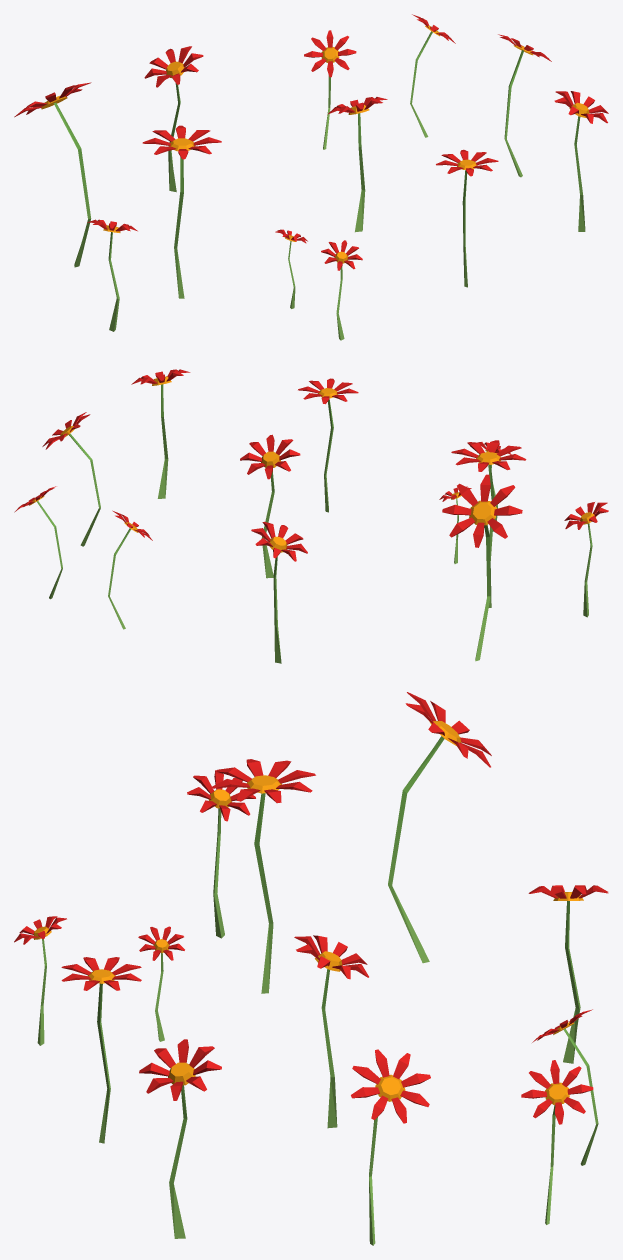
Rendered from flower_red.glb.
3 renders of one model, top to bottom at view 1: azimuth 30°, elevation 25°; view 2: azimuth 150°, elevation 25°; view 3: azimuth 270°, elevation 25°, orthographic. The views are drawn at different scales.
Visible parts, largest first — view 1: flower_red; view 2: flower_red; view 3: flower_red.
Boxes of the visible parts, box(x1,y1,x2,y2) form: flower_red: box(14, 14, 608, 340); flower_red: box(14, 369, 608, 663); flower_red: box(14, 692, 608, 1245).
Size of the model in its own units: 1.01 by 0.35 by 0.7405.
1 material, 1 textured.
